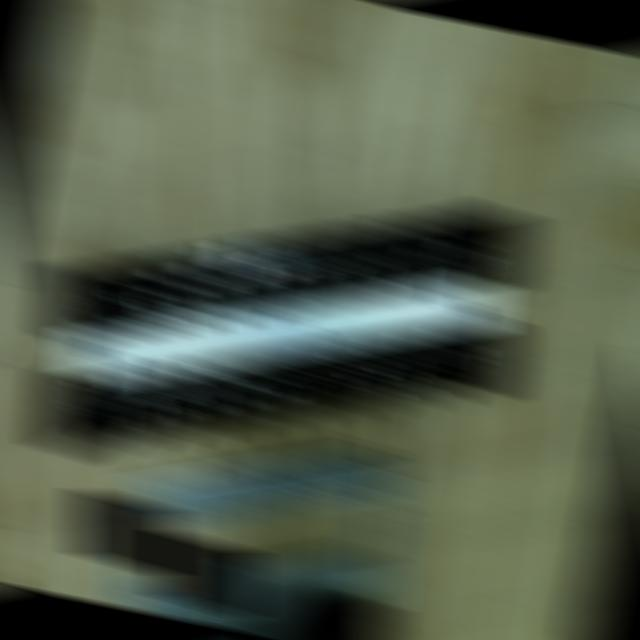Phillips_Block: (14, 205, 553, 457)
